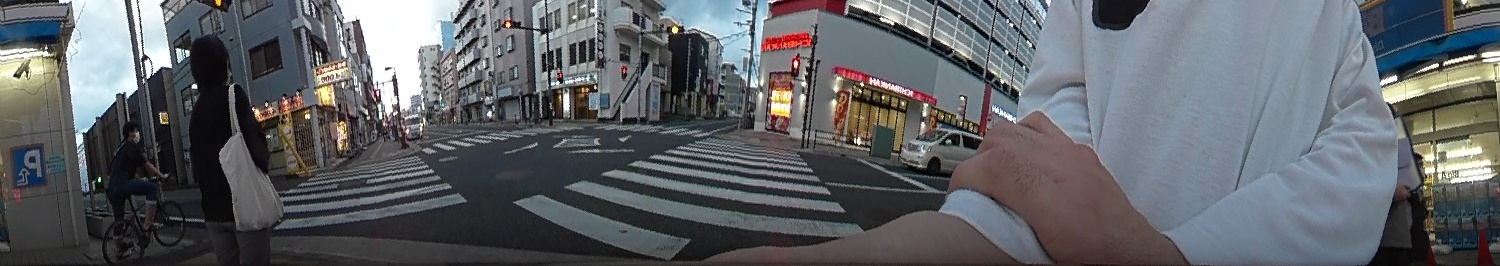person: (173, 32, 290, 266), (97, 114, 169, 251)
